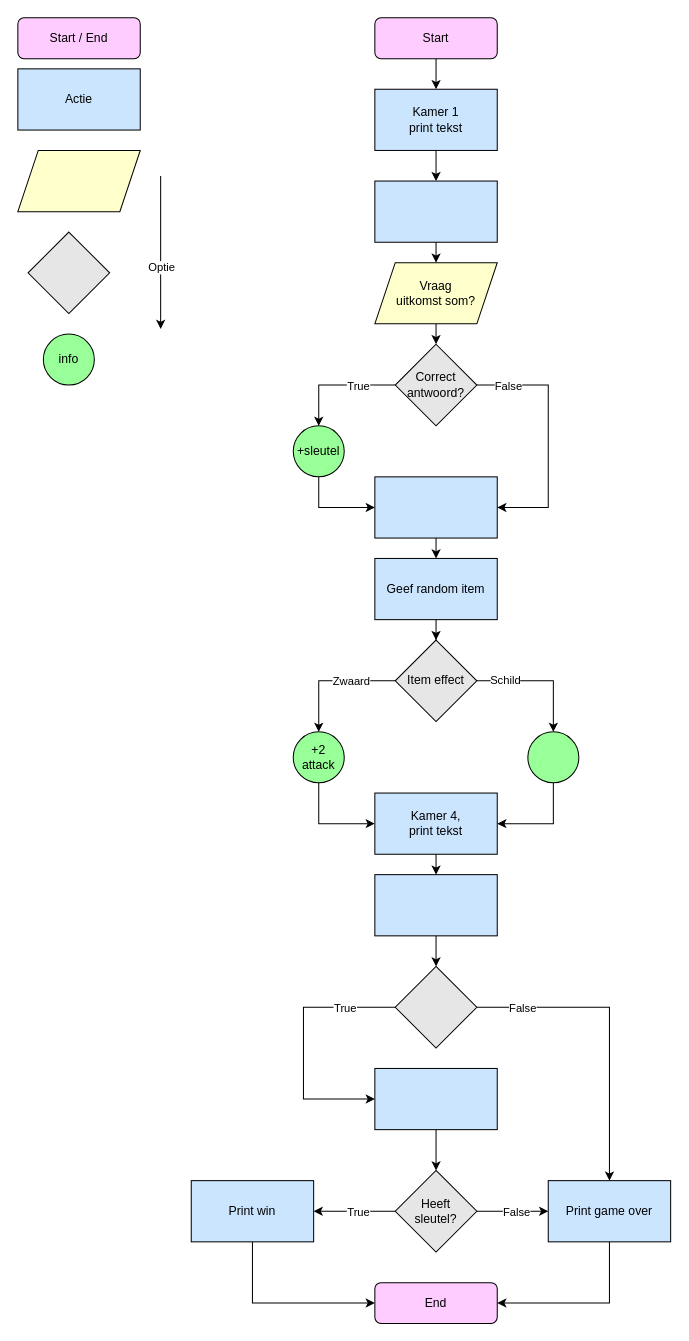
This 689x1341 diagram has some shape labels left out. Each missing label, with the centre of its shape:
"+1 defence" goes at (553,757).
"conditie" goes at (68,272).
"input" goes at (78,180).
"Kamer 2, print tekst en som" goes at (435,211).
"Kamer 3, print tekst" goes at (435,507).
"Kamer 4, Battle" goes at (435,905).
"Kamer 5, Print tekst" goes at (435,1098).
"Succes?" goes at (435,1006).
